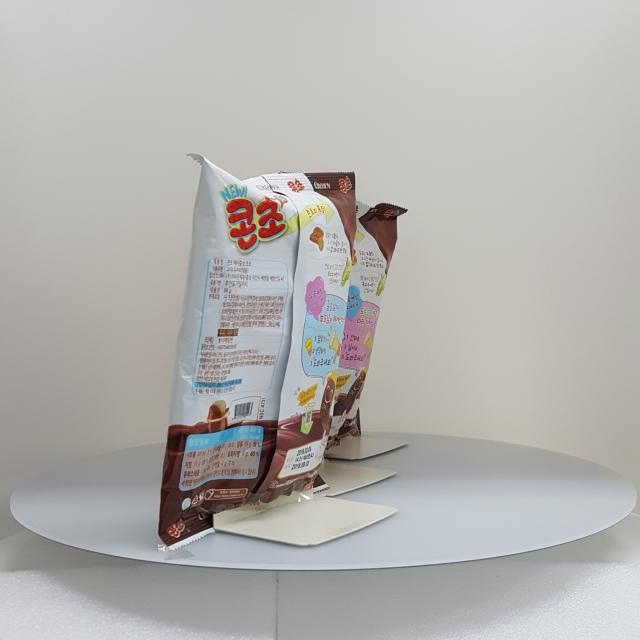-66G: (159, 154, 358, 552)
